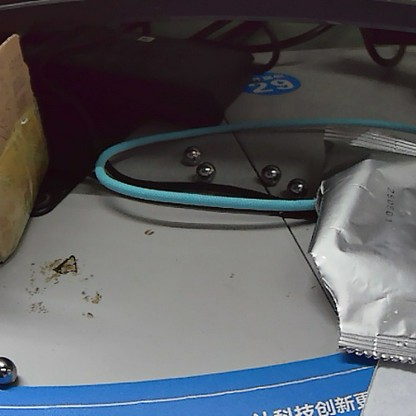ironball: (0, 354, 23, 388), (261, 161, 285, 191), (178, 139, 202, 163), (192, 158, 213, 180), (288, 175, 306, 196)
